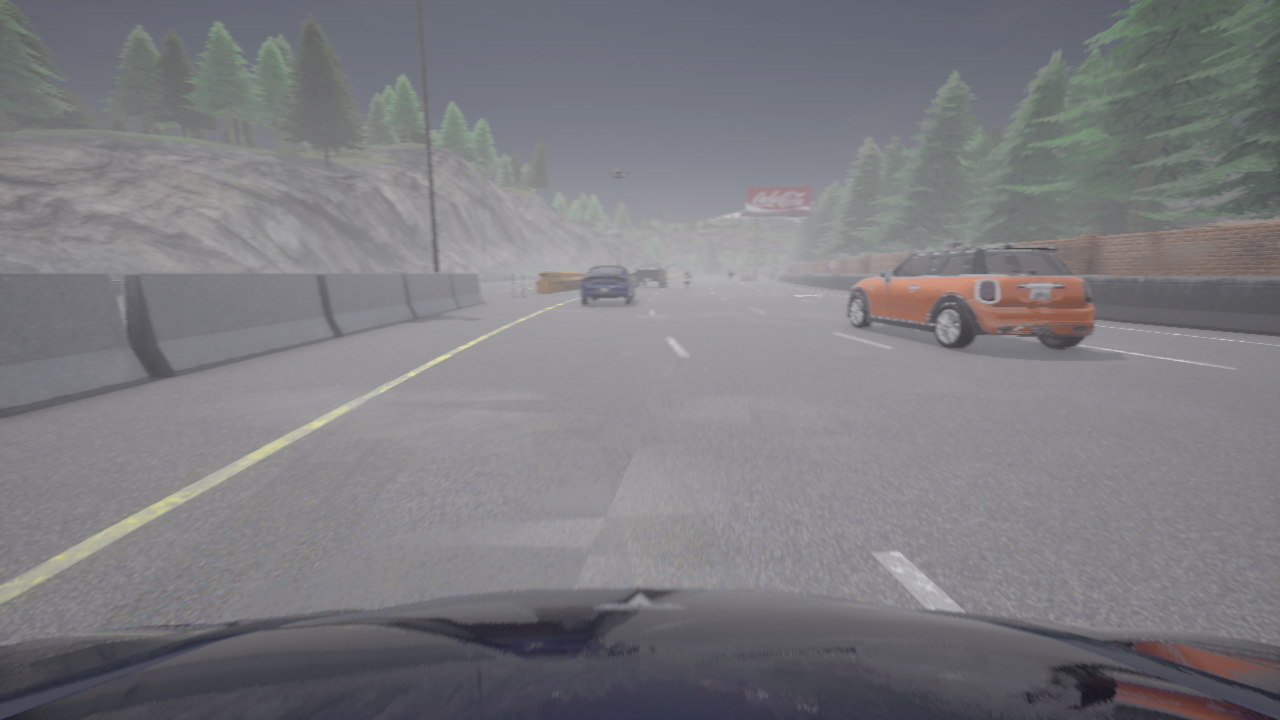cyclist: (0, 588, 1279, 719), (846, 238, 1094, 348), (581, 265, 634, 304), (634, 263, 667, 287), (684, 275, 689, 289), (728, 278, 732, 286)
